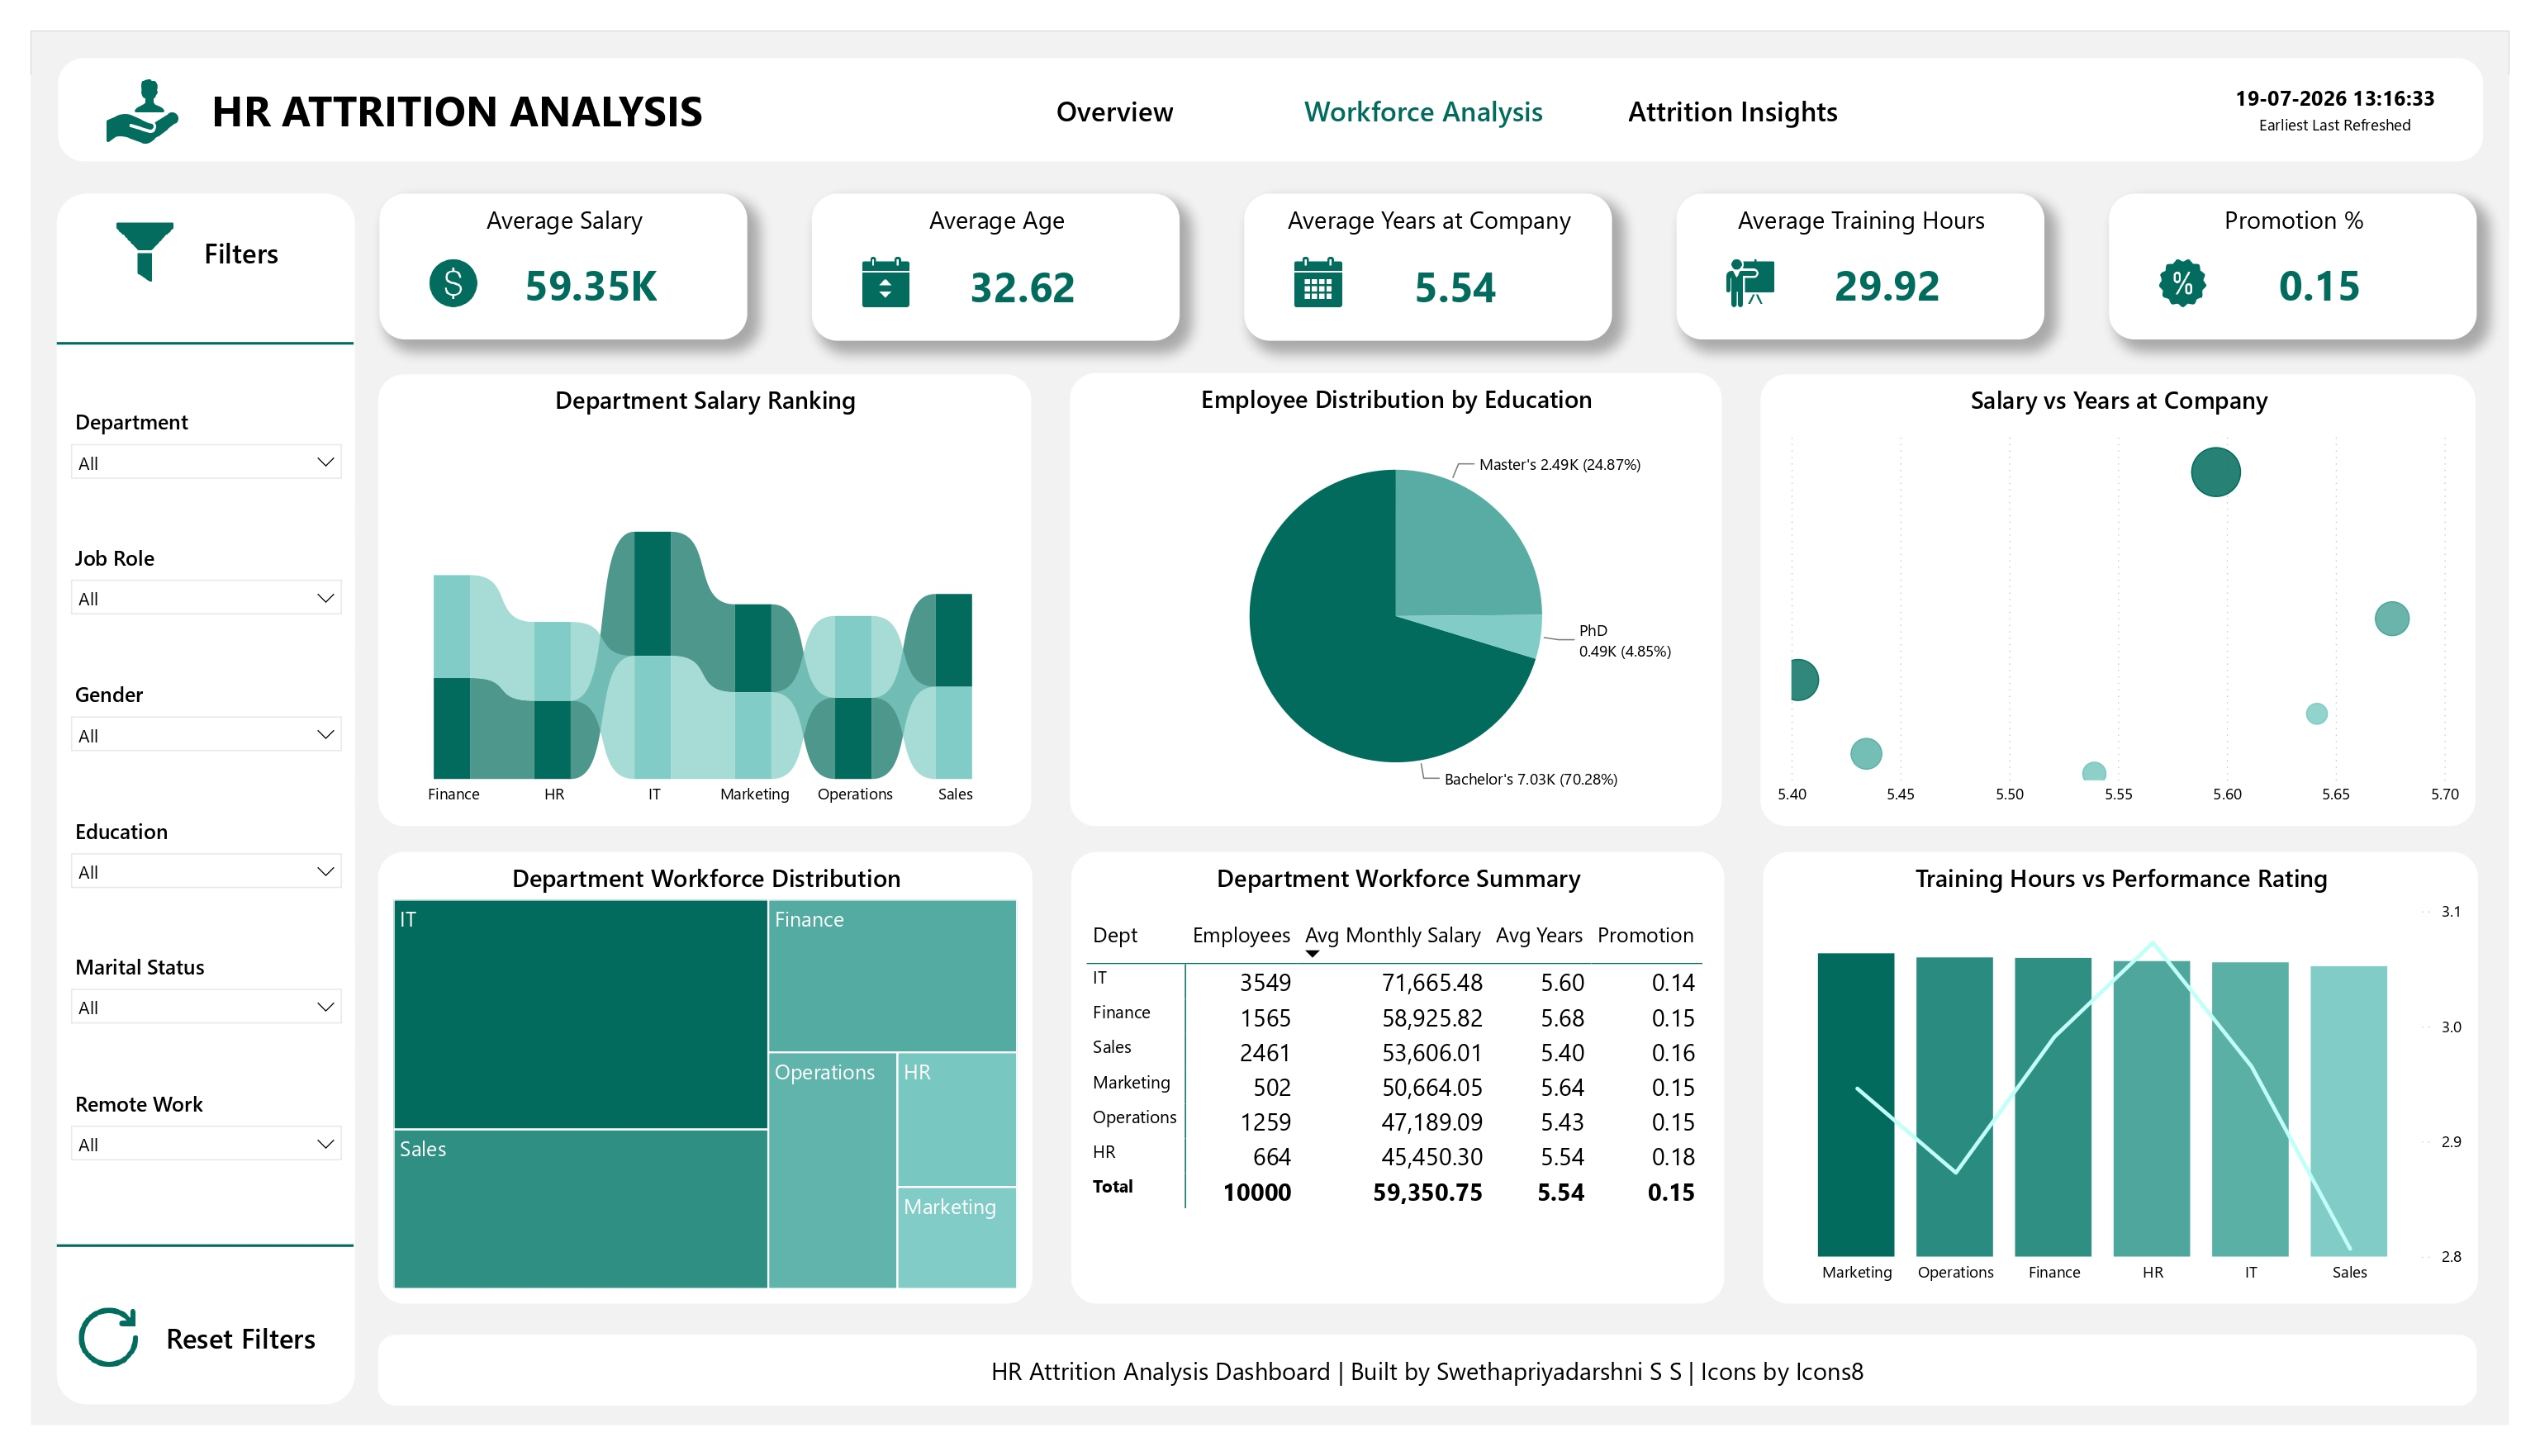

What the dashboard file says about the page in this screenshot:
{"tool":"powerbi","page":{"name":"Workforce Analysis","canvas":[1920,1080],"ordinal":1},"visuals":[{"type":"group","id":"g1","title":"Header","box":[20.7,20.7,1879.3,80.1],"z":0},{"type":"shape","title":"Title Shape","box":[20.7,20.8,1879.3,80],"z":0,"group":"g1"},{"type":"shape","title":"Filter Shape","box":[20,126,231.5,938],"z":0,"group":"g3"},{"type":"cardVisual","title":"Average Salary","fields":{"Data":["Sheet1.Average Salary"]},"box":[269.8,126.6,285,113.1],"z":0,"group":"g4"},{"type":"image","title":"Filter Icon","box":[63.4,146,50.3,50],"z":0,"group":"g2"},{"type":"ribbonChart","title":"Department Salary Ranking","fields":{"Category":["Sheet1.Department"],"Y":["Avg(Sheet1.Monthly_Salary)"],"Series":["Sheet1.Gender"]},"box":[269,265.3,505.8,350.4],"z":0,"group":"g6"},{"type":"slicer","title":"Department Slicer","fields":{"Values":["Sheet1.Department"]},"box":[20.9,287.2,230,80],"z":0,"group":"g5"},{"type":"image","title":"Reset Icon","box":[35.4,987.1,50.3,50],"z":0,"group":"g7"},{"type":"image","title":"Title Icon","box":[45.6,31.8,80,60],"z":1000,"group":"g1"},{"type":"cardVisual","title":"Average Age","fields":{"Data":["Sheet1.Average Age"]},"box":[604.7,126.4,285,113.6],"z":1000,"group":"g4"},{"type":"group","id":"g2","title":"Filters","box":[63.4,146,145.1,50.2],"z":1000,"group":"g3"},{"type":"actionButton","title":"Filters Button","box":[118,146.2,90.5,50],"z":1000,"group":"g2"},{"type":"pieChart","title":"Employee Distribution by Education","fields":{"Category":["Sheet1.Education_Level"],"Y":["CountNonNull(Sheet1.Employee_ID)"]},"box":[804.6,264.6,505.3,350.9],"z":1000,"group":"g6"},{"type":"slicer","title":"Job Role Slicer","fields":{"Values":["Sheet1.Job_Role"]},"box":[21,392.7,230,80],"z":1000,"group":"g5"},{"type":"actionButton","title":"Reset Button","box":[89.7,987.1,146.8,50],"z":1000,"group":"g7"},{"type":"textbox","title":"Title","box":[135,33.9,410.7,60],"z":2000,"group":"g1"},{"type":"group","id":"g3","title":"Left Panel","box":[20,126,231.5,938],"z":2000},{"type":"cardVisual","title":"Average Years at Company","fields":{"Data":["Sheet1.Average Years at Company"]},"box":[939.6,126.4,285,113.6],"z":2000,"group":"g4"},{"type":"shape","title":"Filter Line","box":[20.1,221.7,230,40],"z":2000,"group":"g3"},{"type":"scatterChart","title":"Salary vs Years at Company","fields":{"X":["Avg(Sheet1.Years_at_Company)"],"Y":["Avg(Sheet1.Monthly_Salary)"],"Category":["Sheet1.Department"],"Size":["Sum(Sheet1.Training_Hours_Last_Year)"]},"box":[1339.7,265.5,554.7,350],"z":2000,"group":"g6"},{"type":"slicer","title":"Gender Slicer","fields":{"Values":["Sheet1.Gender"]},"box":[21,498.4,230,80],"z":2000,"group":"g5"},{"type":"actionButton","title":"Overview Button","box":[719.6,20.7,240,80],"z":3000,"group":"g1"},{"type":"group","id":"g4","title":"Cards","box":[269.8,126.4,1624.6,113.6],"z":3000},{"type":"cardVisual","title":"Average Training Hours","fields":{"Data":["Avg(Sheet1.Training_Hours_Last_Year)"]},"box":[1274.5,126.6,285,113.2],"z":3000,"group":"g4"},{"type":"group","id":"g5","title":"Slicers","box":[20.9,287.2,230.1,607.7],"z":3000,"group":"g3"},{"type":"slicer","title":"Education Slicer","fields":{"Values":["Sheet1.Education_Level"]},"box":[21,603.9,230,80],"z":3000,"group":"g5"},{"type":"treemap","title":"Department Workforce Distribution","fields":{"Group":["Sheet1.Department"],"Values":["CountNonNull(Sheet1.Employee_ID)"]},"box":[269,635.3,507.2,350.4],"z":3000,"group":"g6"},{"type":"actionButton","title":"Workforce Analysis Button","box":[959,20.7,240,80],"z":4000,"group":"g1"},{"type":"cardVisual","title":"Promotion %","fields":{"Data":["Sheet1.Promotion %"]},"box":[1609.4,126.6,285,113.2],"z":4000,"group":"g4"},{"type":"group","id":"g6","title":"Charts","box":[269,264.6,1626.8,721.1],"z":4000},{"type":"pivotTable","title":"Department Workforce Summary","fields":{"Rows":["Sheet1.Department"],"Values":["CountNonNull(Sheet1.Employee_ID)","Avg(Sheet1.Monthly_Salary)","Avg(Sheet1.Years_at_Company)","Sheet1.Promotion %"]},"box":[806,635.3,506.3,350.4],"z":4000,"group":"g6"},{"type":"slicer","title":"Marital Status Slicer","fields":{"Values":["Sheet1.Marital_Status"]},"box":[21,709.4,230,80],"z":4000,"group":"g5"},{"type":"shape","title":"Reset Line","box":[20.1,920.6,230,40.9],"z":4000,"group":"g3"},{"type":"actionButton","title":"Attrition Insights Button","box":[1198.3,20.7,240,80],"z":5000,"group":"g1"},{"type":"lineClusteredColumnComboChart","title":"Training Hours vs Performance Rating","fields":{"Category":["Sheet1.Department"],"Y":["Avg(Sheet1.Training_Hours_Last_Year)"],"Y2":["Avg(Sheet1.Performance Score)"]},"box":[1342.1,635.3,553.7,350.4],"z":5000,"group":"g6"},{"type":"slicer","title":"Remote Work Slicer","fields":{"Values":["Sheet1.Remote_Work"]},"box":[21,814.9,230,80],"z":5000,"group":"g5"},{"type":"group","id":"g7","title":"Reset","box":[35.4,987.1,201.1,50],"z":5000,"group":"g3"},{"type":"shape","title":"Footer","box":[269,1010.3,1625.9,55],"z":5000},{"type":"cardVisual","title":"Last Refreshed","fields":{"Data":["Min(Last Refreshed.Last Refreshed)"]},"box":[1674.5,24.5,221.4,70],"z":6000,"group":"g1"}]}

Visuals, with their boxes on the page's 1920x1080 design canvas (x1, y1, x2, y2). These are canvas units, not pixel positions in the 2540x1456 screenshot, which may show the page scaled, cropped or inside an application window:
"Header" group: box=[21, 21, 1900, 101]
"Title Shape" shape: box=[21, 21, 1900, 101]
"Filter Shape" shape: box=[20, 126, 252, 1064]
"Average Salary" cardVisual: box=[270, 127, 555, 240]
"Filter Icon" image: box=[63, 146, 114, 196]
"Department Salary Ranking" ribbonChart: box=[269, 265, 775, 616]
"Department Slicer" slicer: box=[21, 287, 251, 367]
"Reset Icon" image: box=[35, 987, 86, 1037]
"Title Icon" image: box=[46, 32, 126, 92]
"Average Age" cardVisual: box=[605, 126, 890, 240]
"Filters" group: box=[63, 146, 208, 196]
"Filters Button" actionButton: box=[118, 146, 208, 196]
"Employee Distribution by Education" pieChart: box=[805, 265, 1310, 616]
"Job Role Slicer" slicer: box=[21, 393, 251, 473]
"Reset Button" actionButton: box=[90, 987, 236, 1037]
"Title" textbox: box=[135, 34, 546, 94]
"Left Panel" group: box=[20, 126, 252, 1064]
"Average Years at Company" cardVisual: box=[940, 126, 1225, 240]
"Filter Line" shape: box=[20, 222, 250, 262]
"Salary vs Years at Company" scatterChart: box=[1340, 266, 1894, 616]
"Gender Slicer" slicer: box=[21, 498, 251, 578]
"Overview Button" actionButton: box=[720, 21, 960, 101]
"Cards" group: box=[270, 126, 1894, 240]
"Average Training Hours" cardVisual: box=[1274, 127, 1560, 240]
"Slicers" group: box=[21, 287, 251, 895]
"Education Slicer" slicer: box=[21, 604, 251, 684]
"Department Workforce Distribution" treemap: box=[269, 635, 776, 986]
"Workforce Analysis Button" actionButton: box=[959, 21, 1199, 101]
"Promotion %" cardVisual: box=[1609, 127, 1894, 240]
"Charts" group: box=[269, 265, 1896, 986]
"Department Workforce Summary" pivotTable: box=[806, 635, 1312, 986]
"Marital Status Slicer" slicer: box=[21, 709, 251, 789]
"Reset Line" shape: box=[20, 921, 250, 962]
"Attrition Insights Button" actionButton: box=[1198, 21, 1438, 101]
"Training Hours vs Performance Rating" lineClusteredColumnComboChart: box=[1342, 635, 1896, 986]
"Remote Work Slicer" slicer: box=[21, 815, 251, 895]
"Reset" group: box=[35, 987, 236, 1037]
"Footer" shape: box=[269, 1010, 1895, 1065]
"Last Refreshed" cardVisual: box=[1674, 24, 1896, 94]
